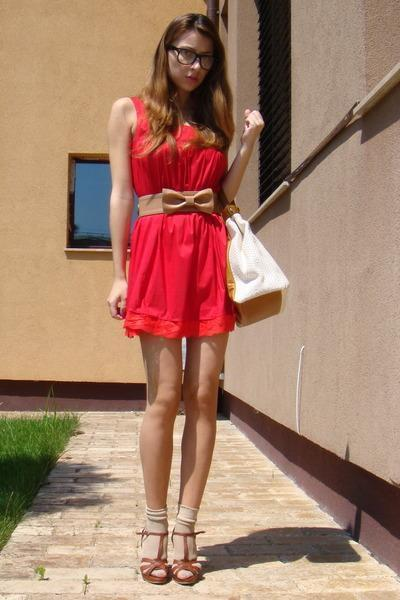bag: (138, 185, 239, 235)
dress: (123, 84, 246, 337)
shoe: (226, 213, 288, 323)
